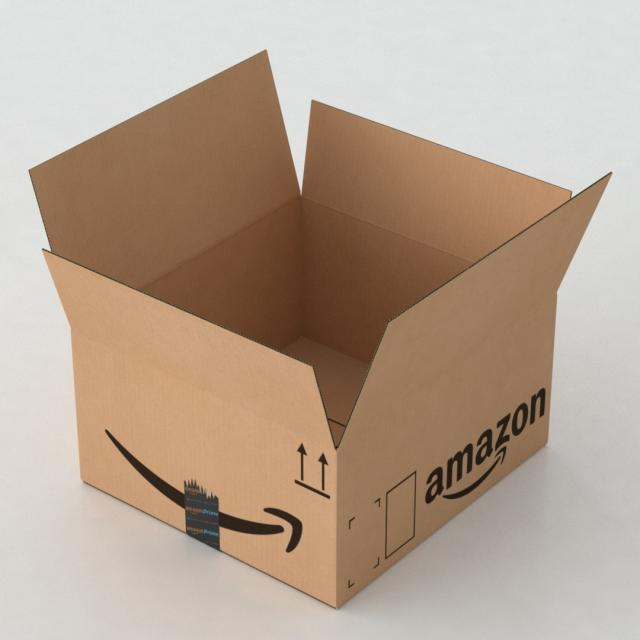box: (28, 48, 612, 612)
opened: (29, 48, 611, 450)
